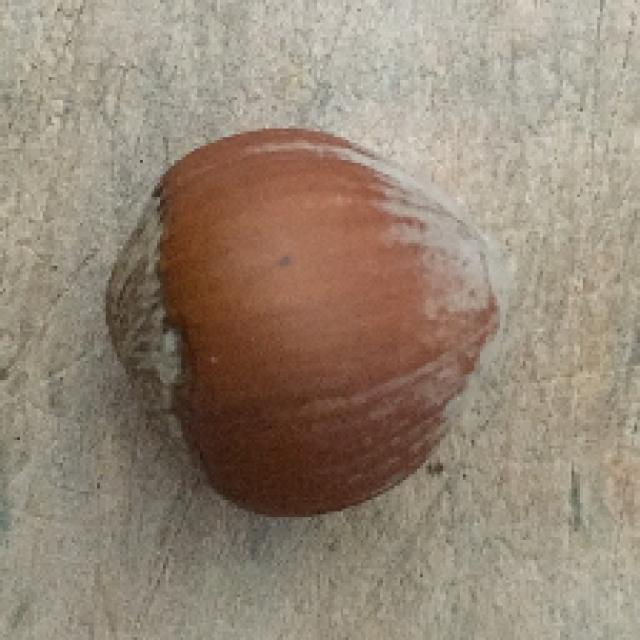qualityHazelnut: (102, 130, 497, 520)
